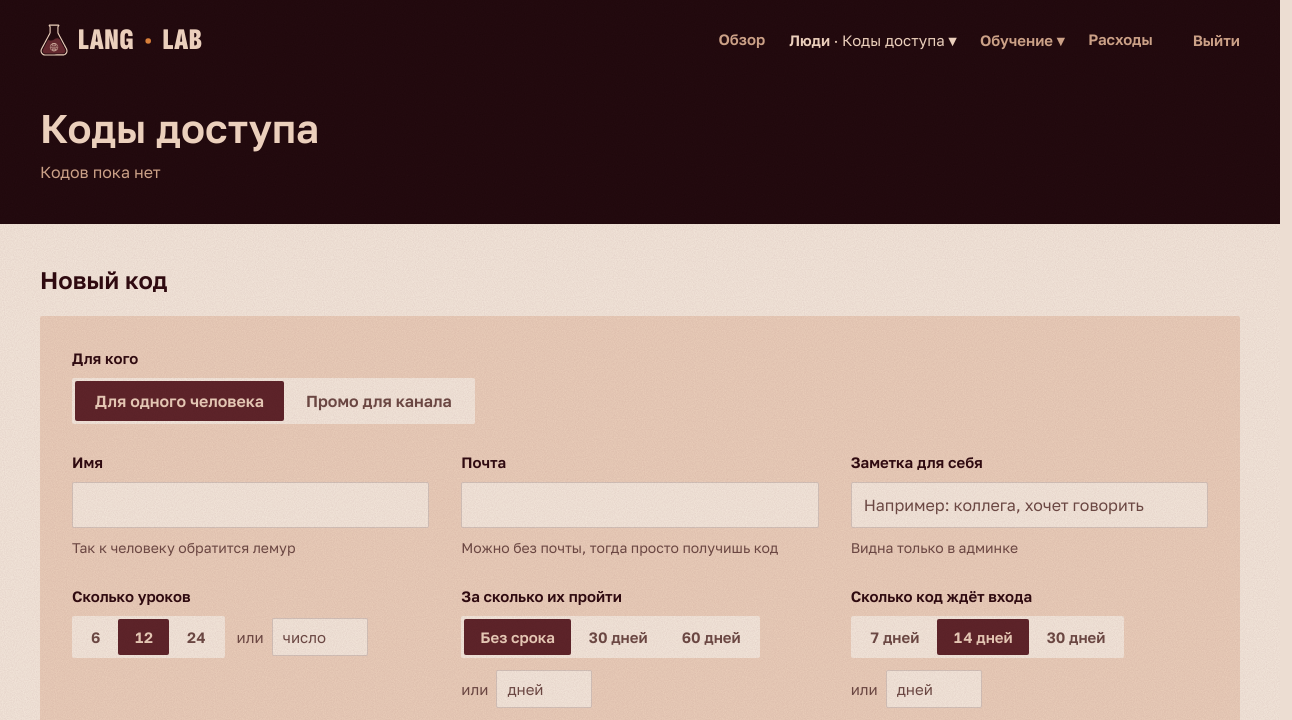
codes › a new invite: the name the tutor will use, lessons, no time limit, copied
The width and height of the screenshot is (1292, 720).
Type "Боря" into the field labelled "Имя". click: (251, 505)
box: [72,482,429,528]
(page scrolled)
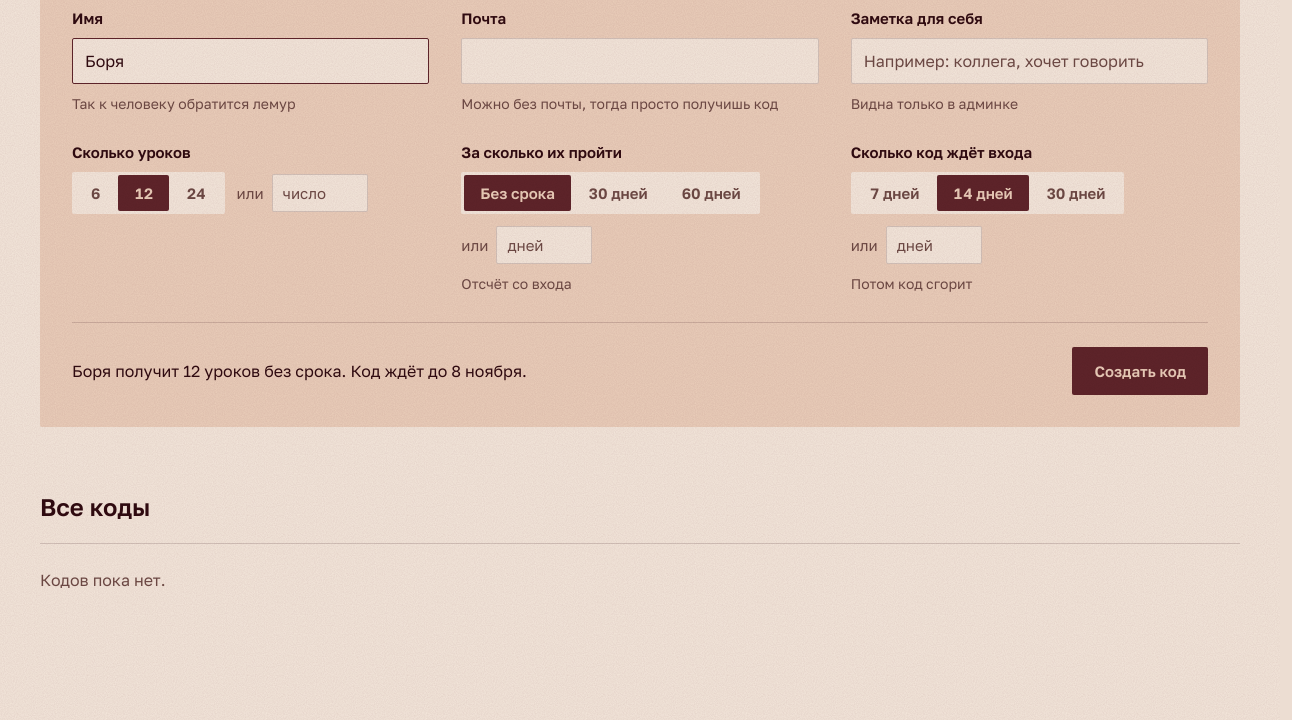
Expected: the text "Боря получит 12 уроков без срока." is shown, [72,361,527,381]
Click the button "Создать код". click: (1140, 371)
box: [1072,347,1208,395]
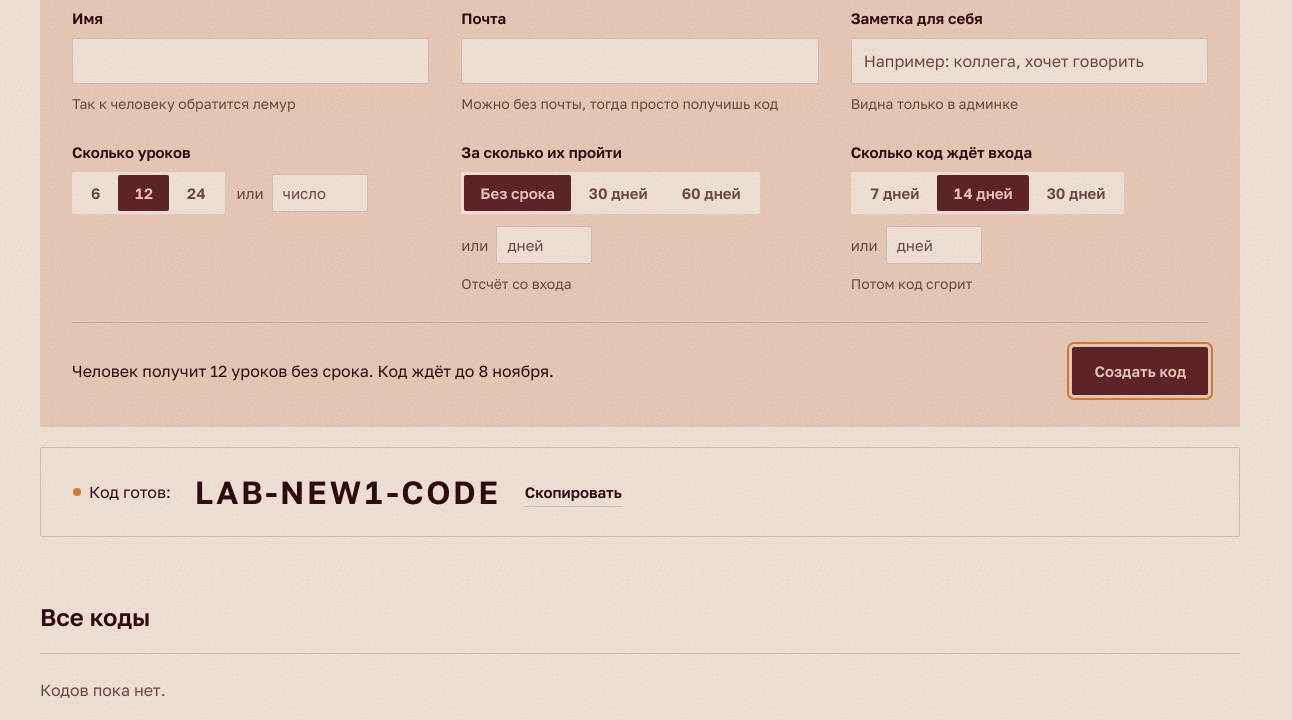
Expected: the text "LAB-NEW1-CODE" is shown, [195,472,501,512]
